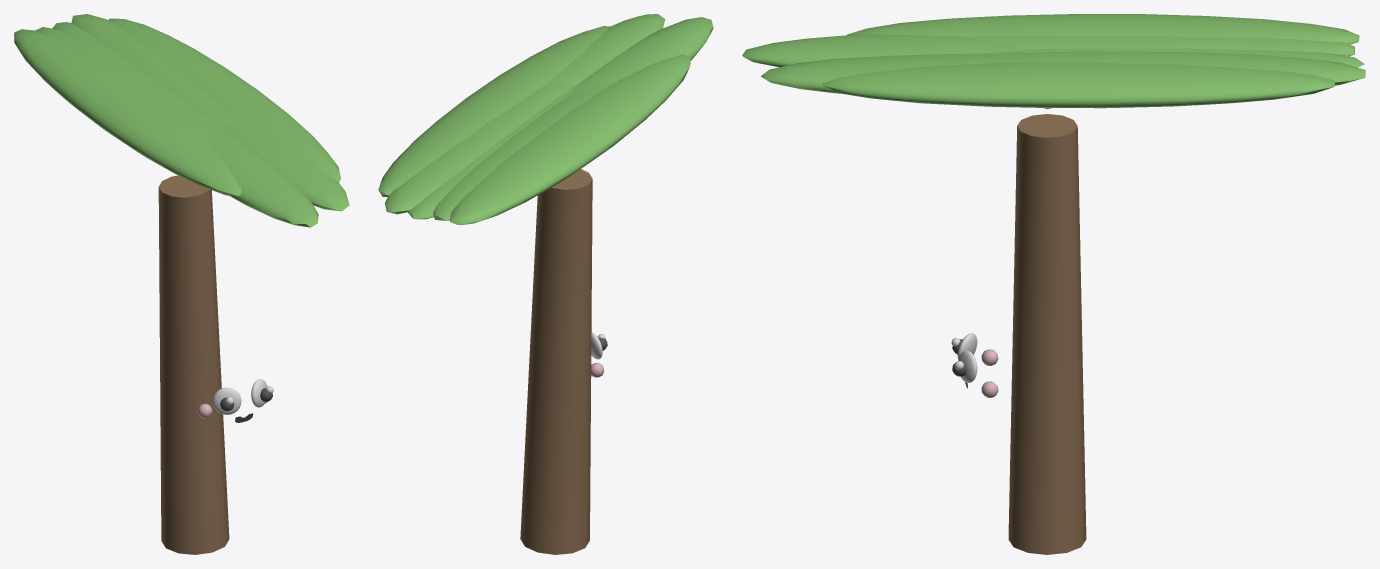
The model's file is phoenix-roebelenii.glb.
3 renders of one model, left to right at view 1: azimuth 30°, elevation 25°; view 2: azimuth 150°, elevation 25°; view 3: azimuth 270°, elevation 25°, orthographic. The views are drawn at different scales.
Parts seen in each view (by area): view 1: trunk, frond3, frond0, frond2, frond6, frond1, frond4, frond5, pface-eye-r; view 2: trunk, frond3, frond0, frond6, frond2, frond4, frond1, frond5; view 3: trunk, frond0, frond3, frond2, frond6, frond4, frond1, frond5.
Part boxes in pixels (box(x1,y1,x2,y2)): trunk: box(158, 175, 229, 554); frond3: box(14, 29, 241, 196); frond0: box(109, 18, 340, 182); frond2: box(199, 118, 318, 227); frond6: box(71, 14, 234, 128); frond1: box(222, 117, 349, 211); frond4: box(35, 27, 207, 144); frond5: box(52, 22, 224, 132); pface-eye-r: box(213, 387, 241, 414); trunk: box(520, 169, 592, 554); frond3: box(450, 54, 690, 225); frond0: box(378, 26, 610, 196); frond6: box(385, 82, 573, 214); frond2: box(564, 17, 713, 98); frond4: box(433, 82, 615, 220); frond1: box(547, 14, 665, 85); frond5: box(408, 83, 579, 219); trunk: box(1008, 114, 1086, 554); frond0: box(822, 62, 1334, 108); frond3: box(847, 14, 1359, 44); frond2: box(742, 34, 1032, 67); frond6: box(993, 51, 1365, 85); frond4: box(967, 36, 1354, 56); frond1: box(760, 53, 1011, 93); frond5: box(987, 48, 1364, 67).
Bounding box in the file's own units: 0.2318 × 0.6299 × 0.7199.
